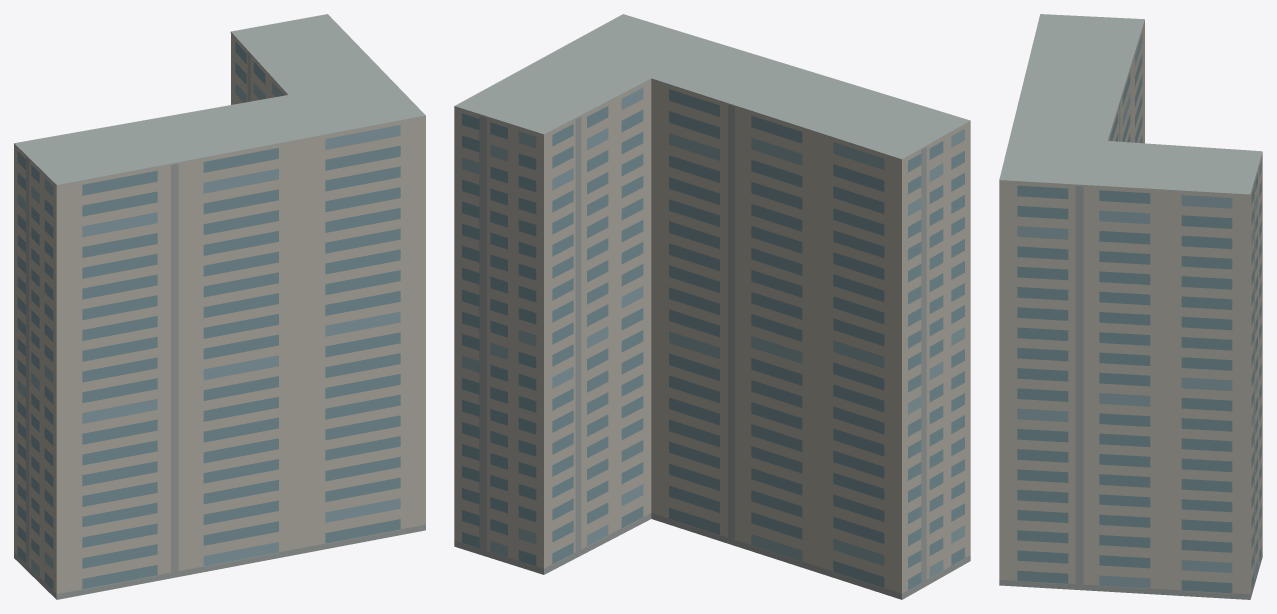
Rendered from residential-75f4a29c-5ac3-44e5-a83d-49486af2c894.glb.
3 views of the same model, side by side, from view 1: azimuth 30°, elevation 25°; view 2: azimuth 150°, elevation 25°; view 3: azimuth 270°, elevation 25° (orthographic). The views are drawn at different scales.
Visible parts, largest first — view 1: residential-75f4a29c-5ac3-44e5-a83d-49486af2c894.tmp; view 2: residential-75f4a29c-5ac3-44e5-a83d-49486af2c894.tmp; view 3: residential-75f4a29c-5ac3-44e5-a83d-49486af2c894.tmp.
Part boxes in pixels (left/top/right/bottom): residential-75f4a29c-5ac3-44e5-a83d-49486af2c894.tmp: left=14, top=14, right=425, bottom=599; residential-75f4a29c-5ac3-44e5-a83d-49486af2c894.tmp: left=454, top=14, right=970, bottom=599; residential-75f4a29c-5ac3-44e5-a83d-49486af2c894.tmp: left=999, top=14, right=1262, bottom=599.
Bounding box in the file's own units: 62.08 × 65 × 38.29.
